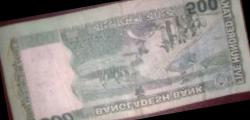500 taka: (17, 1, 232, 120)
